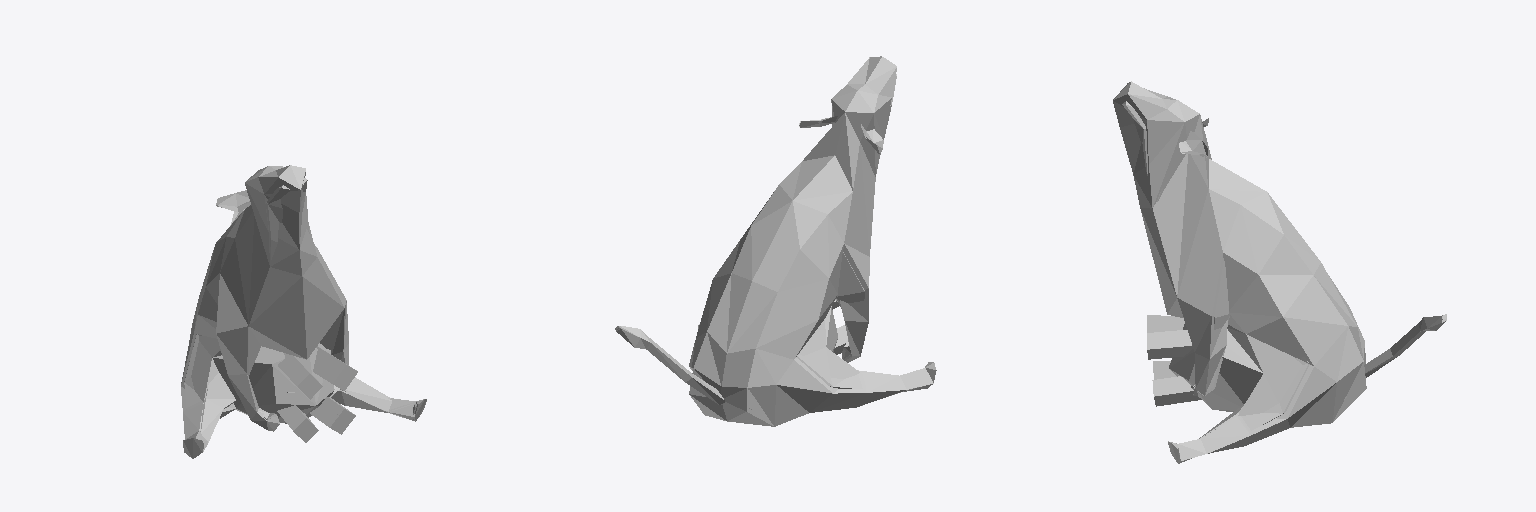
Rendered from Lehmä_000009.obj.
3 views of the same model, side by side, from view 1: azimuth 30°, elevation 25°; view 2: azimuth 150°, elevation 25°; view 3: azimuth 270°, elevation 25° (orthographic).
Parts seen in each view (by area): view 1: Lehmä_Plane.001; view 2: Lehmä_Plane.001; view 3: Lehmä_Plane.001.
Part boxes in pixels (bbox=[...]): Lehmä_Plane.001: bbox=[181, 165, 426, 458]; Lehmä_Plane.001: bbox=[615, 56, 936, 426]; Lehmä_Plane.001: bbox=[1113, 81, 1446, 463].
Bounding box in the file's own units: 4.42 × 5.42 × 5.3.